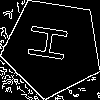H: (27, 22, 78, 65)
